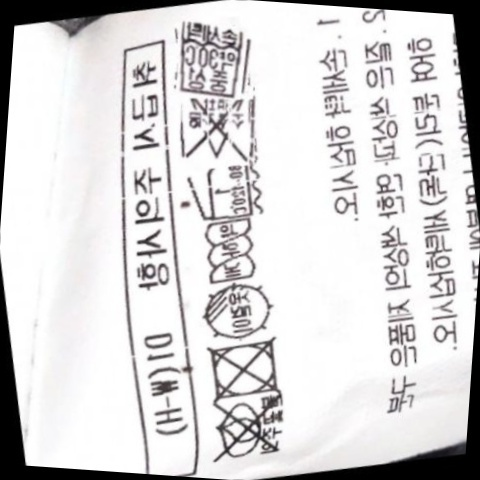DN_tumble_dry: (200, 331, 292, 405)
hand_wash: (169, 20, 255, 99)
iron_low: (187, 159, 261, 226)
line_dry_in_shade: (194, 278, 280, 344)
wring: (200, 215, 263, 288)
